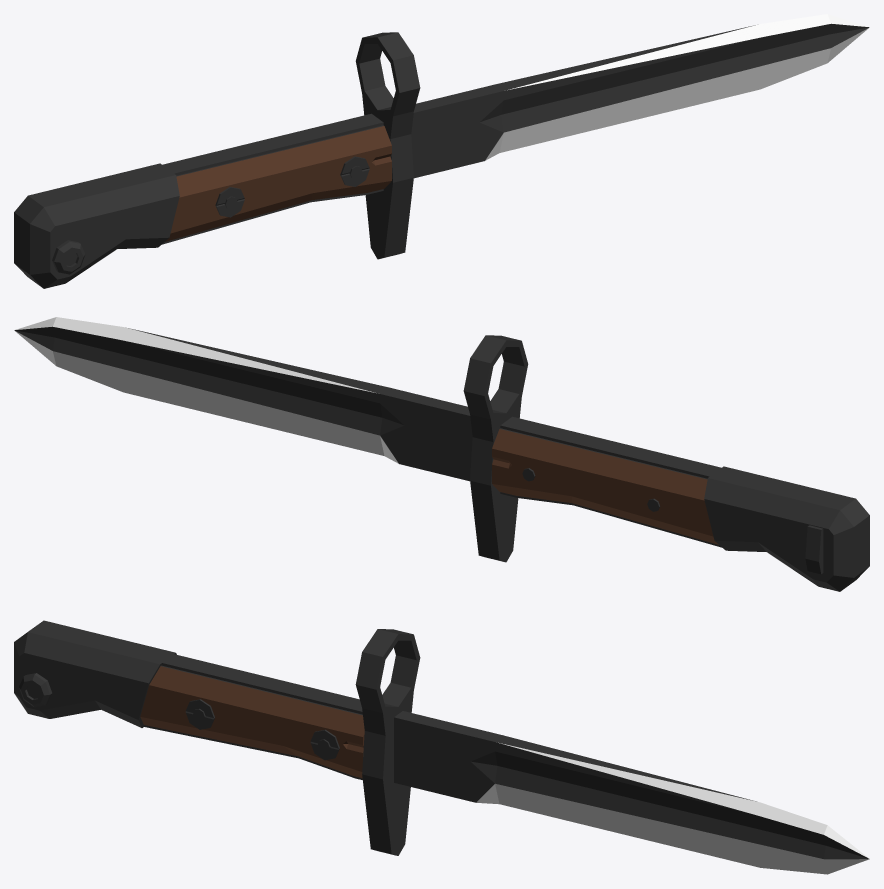
File: m968_bayonet.glb
3 renders of one model, top to bottom at view 1: azimuth 30°, elevation 25°; view 2: azimuth 150°, elevation 25°; view 3: azimuth 330°, elevation 25°, orthographic.
Parts seen in each view (by area): view 1: m968 bayonet_0; view 2: m968 bayonet_0; view 3: m968 bayonet_0.
Boxes of the visible parts, left/top/right/bottom form: m968 bayonet_0: left=14, top=14, right=869, bottom=288; m968 bayonet_0: left=14, top=317, right=869, bottom=591; m968 bayonet_0: left=14, top=620, right=869, bottom=874.
Size of the model in its own units: 1.9 by 0.4767 by 0.1702.
